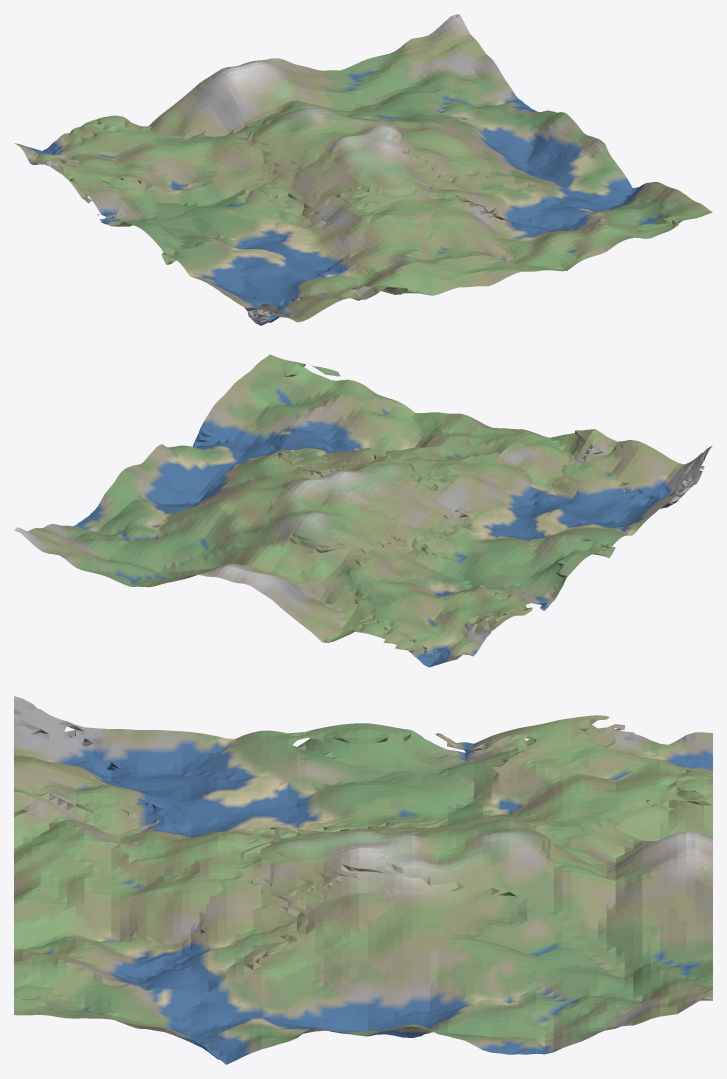
The model's file is terrain-generator-export-2-caves.glb.
3 renders of one model, top to bottom at view 1: azimuth 30°, elevation 25°; view 2: azimuth 150°, elevation 25°; view 3: azimuth 270°, elevation 25°, orthographic. The views are drawn at different scales.
Bounding box in the file's own units: 1200 × 169 × 1200.
